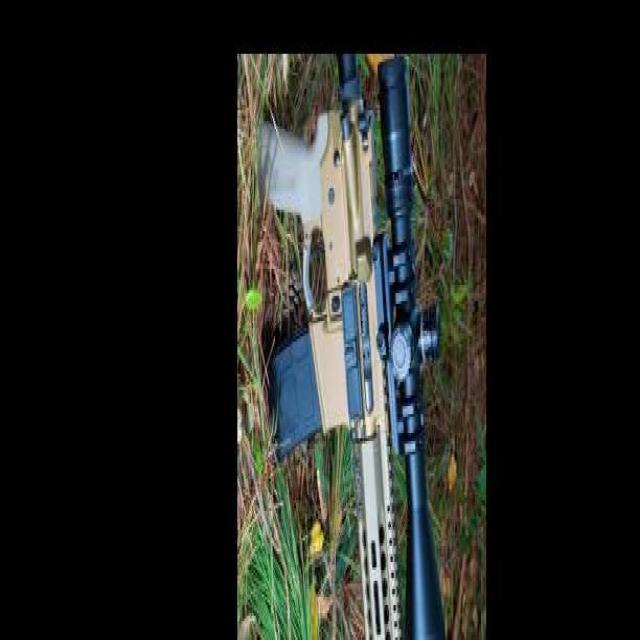weapon: (260, 53, 446, 640)
